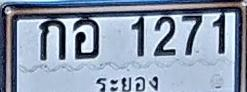1: (212, 13, 225, 54), (131, 16, 144, 56)
2: (154, 16, 176, 56)
7: (182, 14, 202, 54)
A01: (40, 18, 66, 60)
A43: (73, 16, 99, 58)
RYG: (94, 71, 166, 92)
